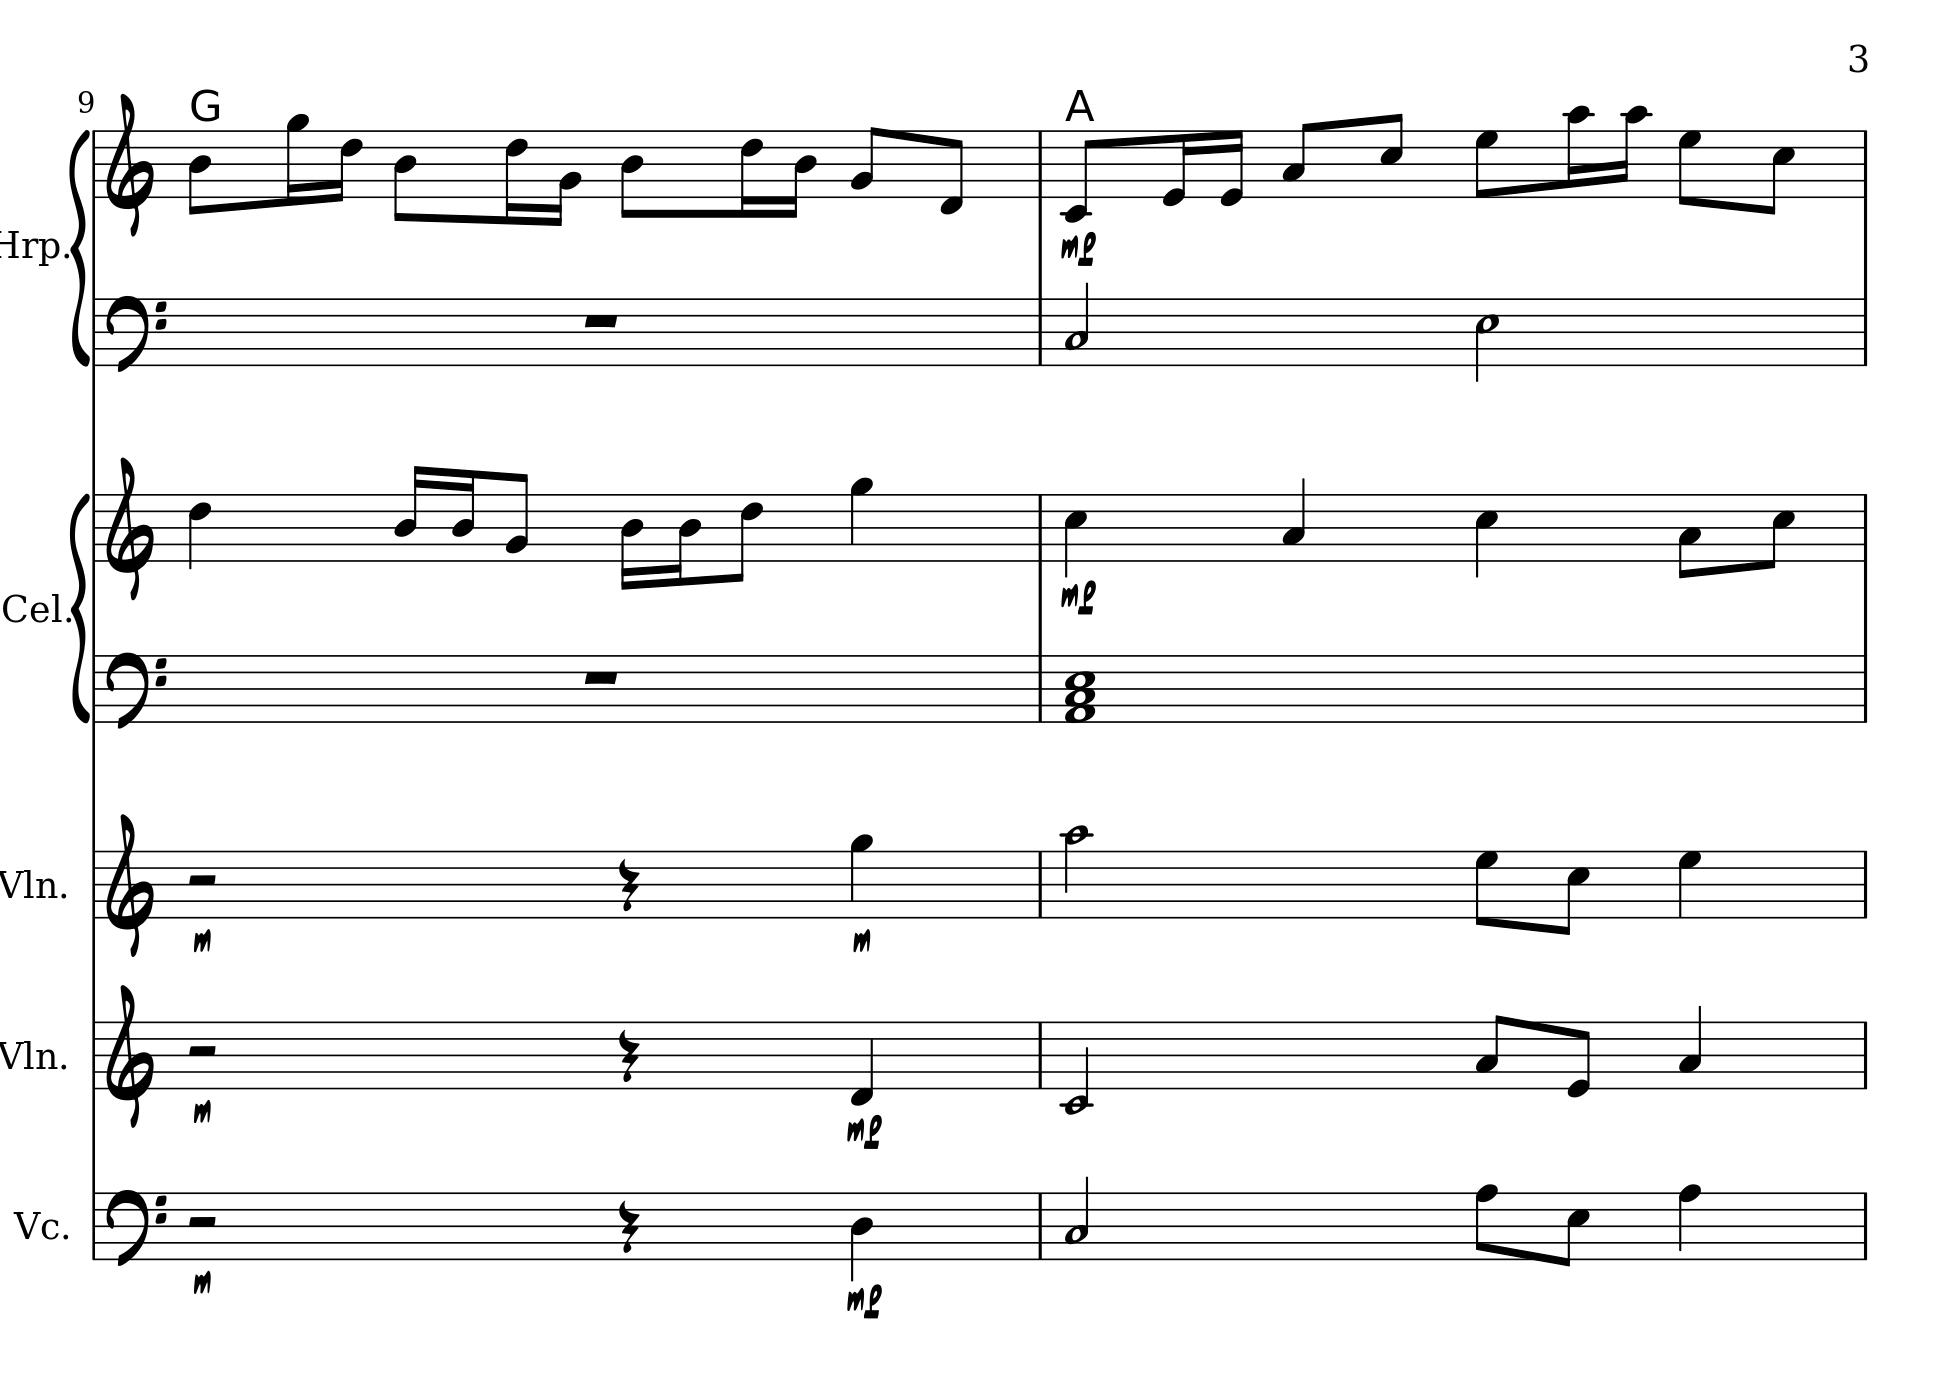16_0: (1161, 127, 1194, 208), (1218, 127, 1246, 208)
16_10: (1614, 103, 1650, 199), (1564, 103, 1593, 199)
16_2: (550, 127, 580, 226)
16_4: (393, 463, 427, 562), (669, 490, 702, 586), (784, 127, 817, 220), (619, 490, 645, 592), (450, 466, 477, 562)
16_6: (504, 127, 529, 226), (330, 127, 363, 202), (738, 127, 763, 220)
16_9: (283, 111, 309, 207)
1_th: (1063, 654, 1098, 724)
2_-2: (1062, 1018, 1095, 1116)
2_10: (1062, 823, 1092, 921)
2_3: (1063, 280, 1090, 367), (1065, 1174, 1092, 1261)
2_5: (1473, 297, 1500, 382)
3: (1848, 40, 1870, 73)
4_-1: (850, 1018, 876, 1107)
4_3: (1677, 1003, 1705, 1090), (1281, 475, 1308, 562)
4_4: (850, 1189, 874, 1279)
4_5: (1473, 490, 1500, 580), (1063, 490, 1089, 577)
4_6: (187, 492, 213, 571)
4_7: (1677, 847, 1704, 919)
4_8: (1677, 1180, 1702, 1261)
4_9: (847, 831, 874, 919), (849, 474, 874, 564)
8_-1: (937, 127, 966, 217)
8_-2: (1062, 127, 1098, 223)
8_0: (1566, 1018, 1594, 1099)
8_2: (849, 124, 882, 199), (504, 471, 529, 564)
8_3: (1474, 1012, 1509, 1090), (1281, 120, 1314, 199), (1677, 490, 1702, 580)
8_4: (391, 127, 417, 223), (187, 127, 213, 217), (619, 127, 643, 220)
8_5: (1557, 847, 1593, 937), (1764, 127, 1797, 217), (1558, 1189, 1591, 1267), (1764, 492, 1795, 570), (1378, 111, 1405, 199)
8_6: (727, 490, 765, 585)
8_7: (1677, 127, 1704, 208), (1473, 847, 1500, 928), (1473, 127, 1500, 199)
8_8: (1473, 1182, 1498, 1261)
9: (78, 87, 94, 112)
Brace: (70, 490, 91, 723), (70, 123, 90, 367)
Cel: (1, 588, 64, 625)
Fclef: (103, 649, 171, 732), (103, 292, 169, 373), (105, 1186, 168, 1269)
Gclef: (103, 91, 154, 238), (103, 811, 154, 957), (103, 982, 154, 1128), (105, 454, 154, 601)
Hrp: (1, 226, 58, 268)
Rests1: (580, 310, 622, 331), (579, 667, 622, 687)
Rests2: (184, 870, 220, 889), (184, 1041, 220, 1060), (184, 1212, 220, 1231)
Rests4: (616, 1026, 640, 1084), (616, 1197, 640, 1255), (616, 856, 640, 913)
Sharp: (190, 1267, 214, 1297), (850, 925, 874, 954), (190, 927, 213, 954), (190, 1098, 213, 1125)
Single_barline: (1032, 130, 1051, 196), (1032, 493, 1050, 562), (1032, 654, 1050, 721), (1032, 298, 1050, 364), (1857, 493, 1875, 559), (1857, 655, 1875, 721), (1857, 1021, 1875, 1087), (1857, 130, 1873, 196), (1857, 298, 1873, 364), (1033, 850, 1050, 916), (1857, 850, 1873, 916), (1857, 1192, 1873, 1258), (1033, 1021, 1048, 1087), (85, 1192, 100, 1258), (1033, 1192, 1048, 1258), (88, 493, 102, 561), (87, 850, 100, 918), (87, 1021, 100, 1087), (88, 298, 102, 363), (88, 655, 102, 720), (88, 129, 100, 196)
Vc: (4, 1207, 67, 1243)
Vln: (1, 864, 58, 903), (1, 1036, 58, 1075)
mp: (844, 1281, 886, 1321), (1059, 577, 1101, 616), (1059, 229, 1099, 267), (844, 1111, 885, 1149)
